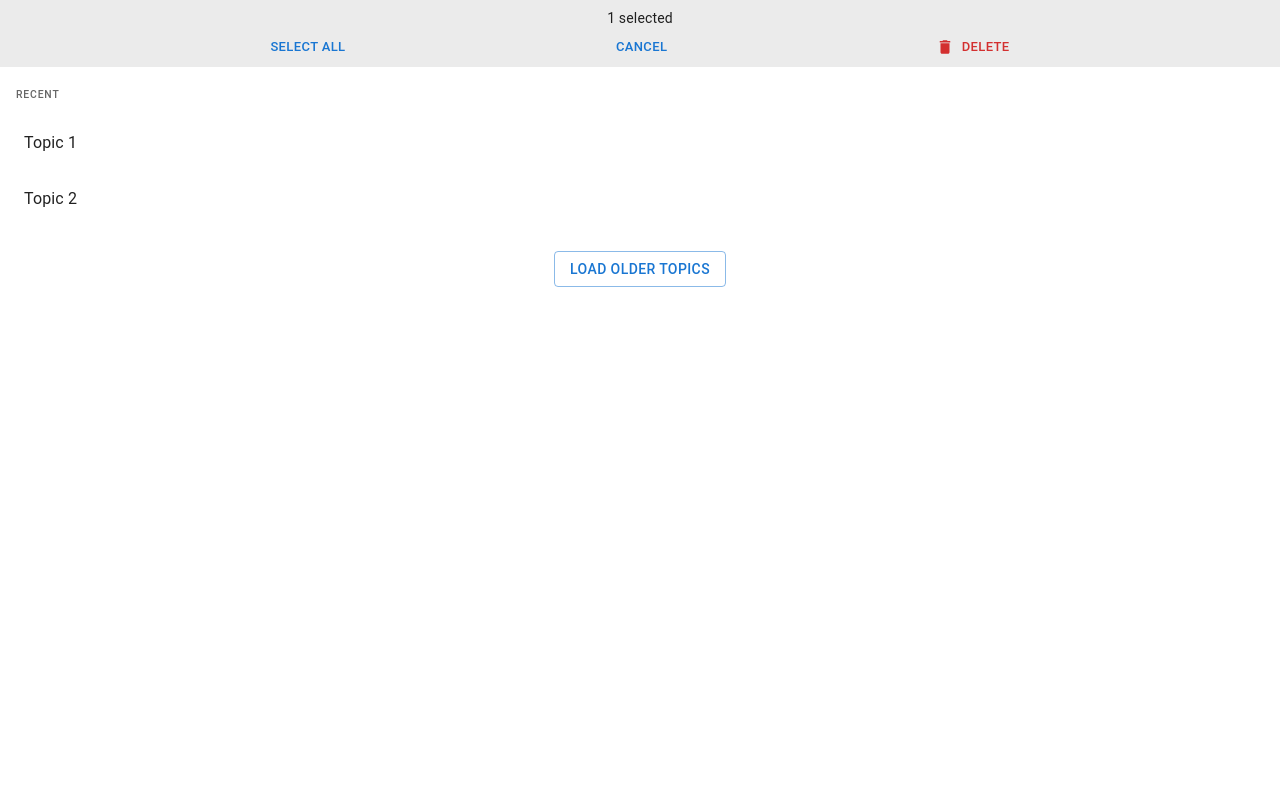
Scenario: TopicList › bulk delete › Delete button opens confirmation dialog
Click the button "Delete". click: (974, 47)
box: [930,32,1018,63]
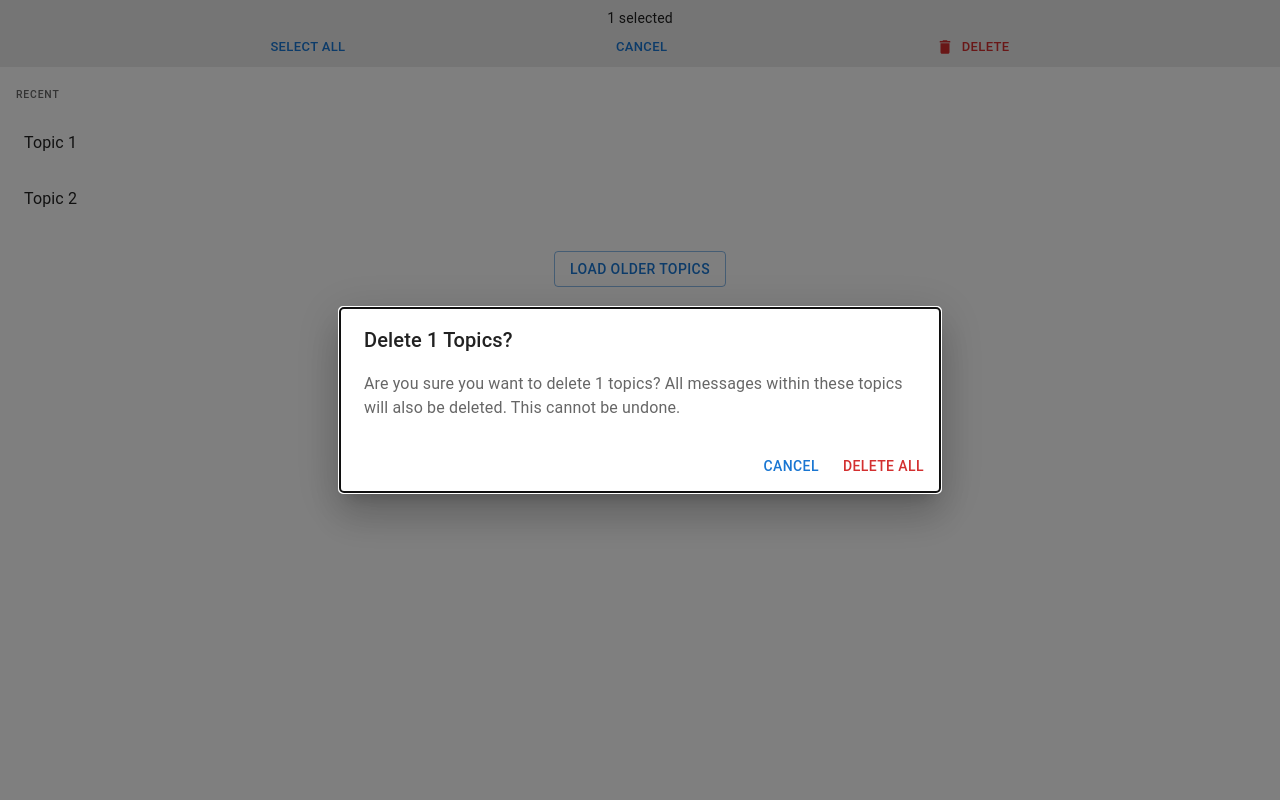
Expected: the heading "Delete 1 Topics?" is shown, [364,328,513,352]
Expected: the button "Delete All" is shown, [835,448,932,484]
Expected: the button "Cancel" is shown, [756,448,827,484]
